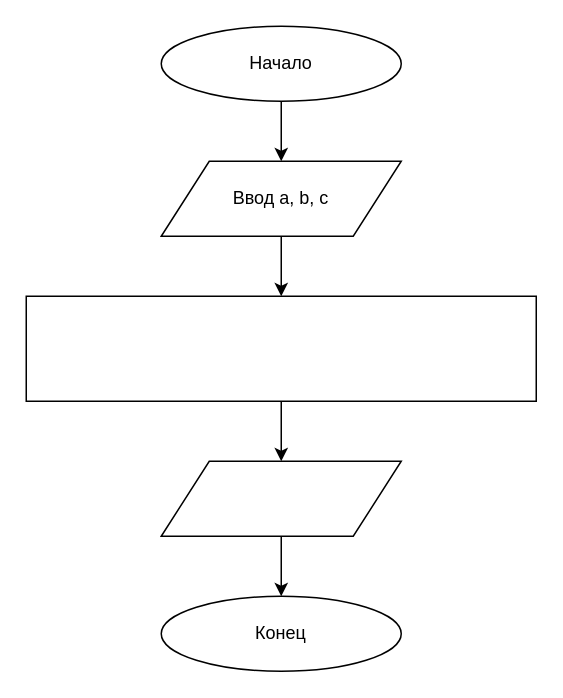
The diagram is 563 pixels wide and 698 high, and some of its shapes have lost their labels. The shapes that lost their labels are listed below. From the top down, each one's centre as x and y in pixels, then its label:
the point at 280,348: y = (tg^2 a + arccos^2 b) / (a(c+cos b))
the point at 280,498: Вывод y
